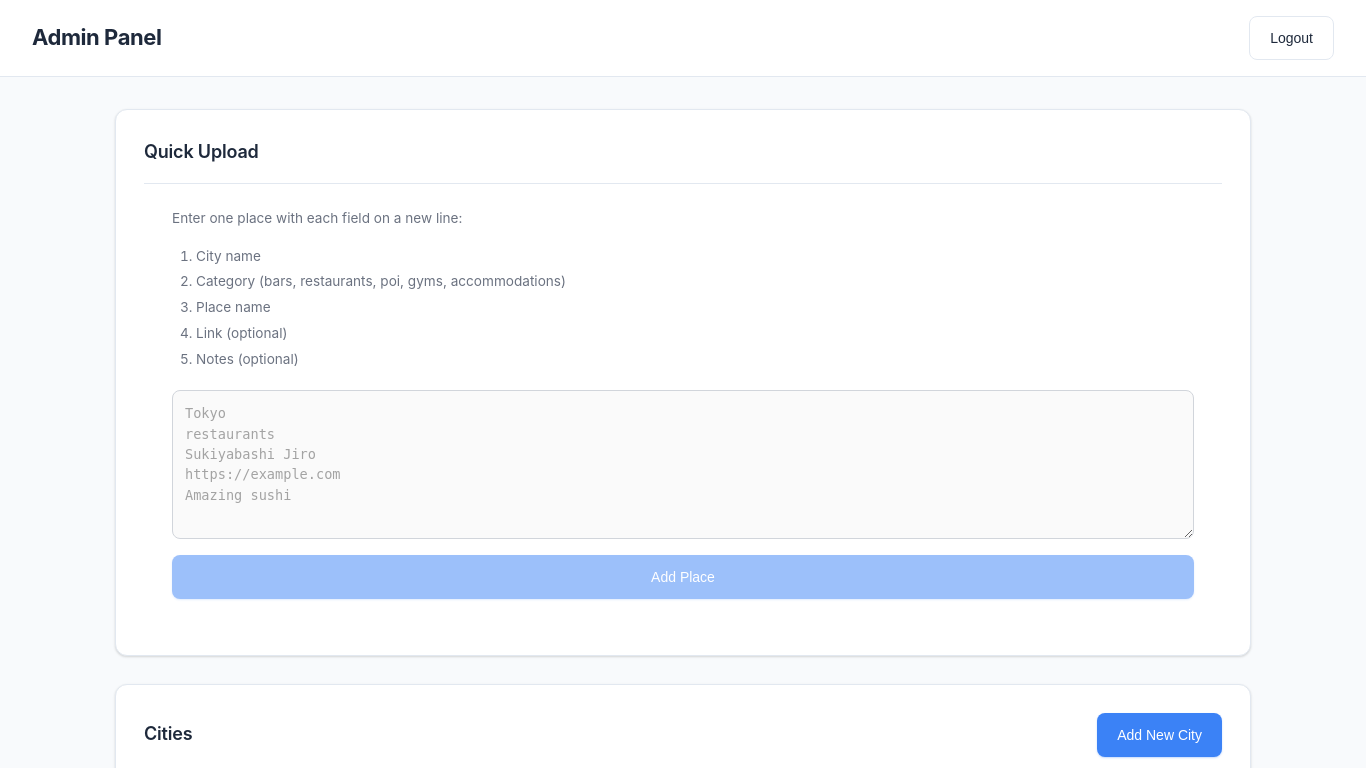
Test: AdminPanel Component › should navigate to create city form when Add New City is clicked
Step 1. Click the button "Add New City" → (1160, 735), box [1097,713,1222,757]
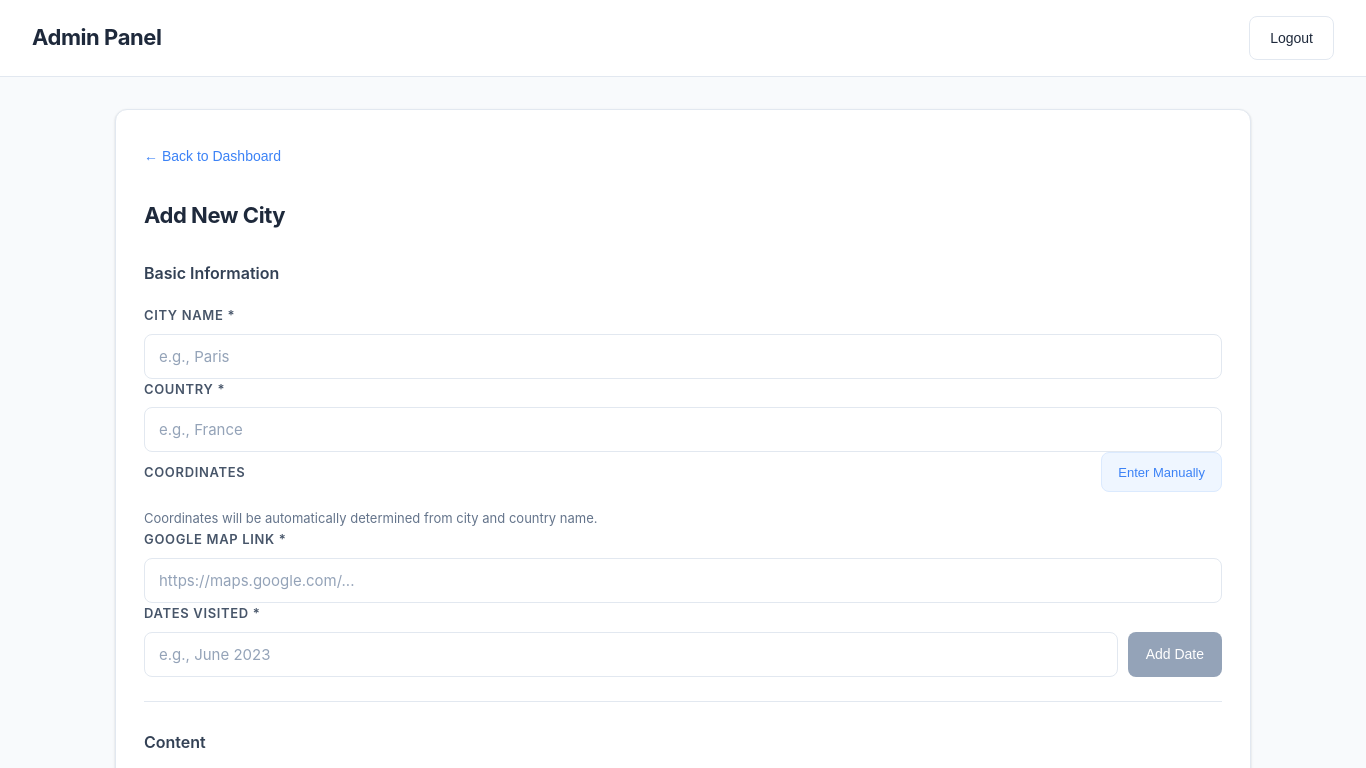
Expected: the heading "Add New City" is shown, [144,202,285,228]
Expected: the button "← Back to Dashboard" is shown, [144,138,281,174]
